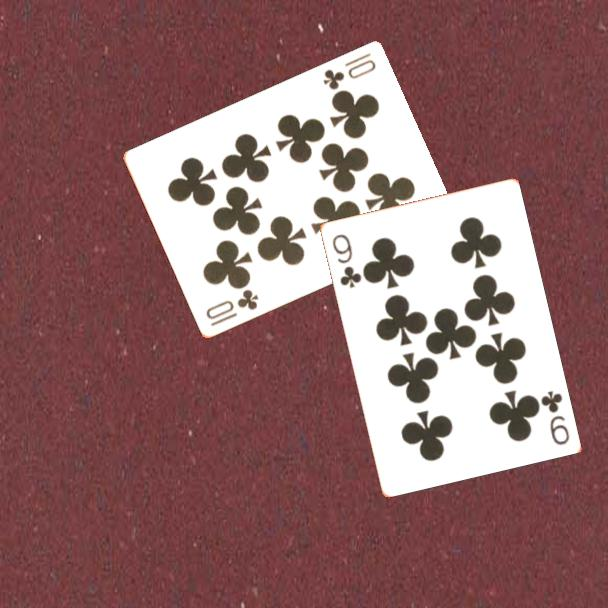c09: (329, 230, 364, 291), (537, 387, 572, 448)
c10: (202, 286, 261, 330), (319, 50, 379, 93)
